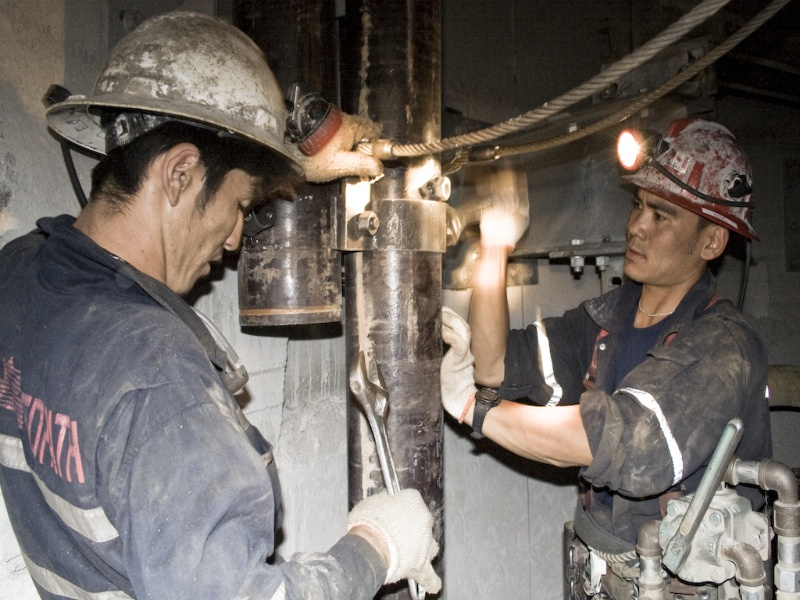Baret: (42, 11, 304, 172), (626, 117, 761, 236)
